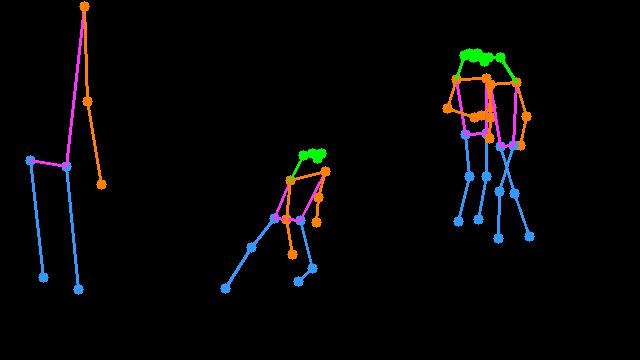normal: (211, 136, 347, 306)
